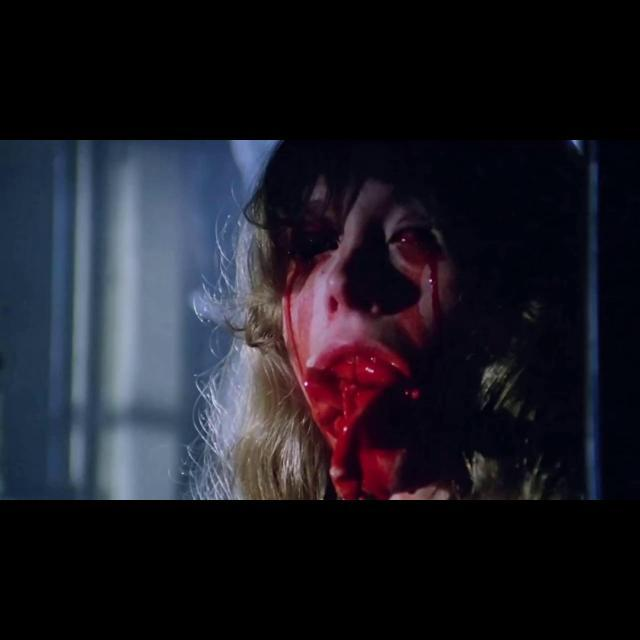blood: (282, 175, 458, 500)
